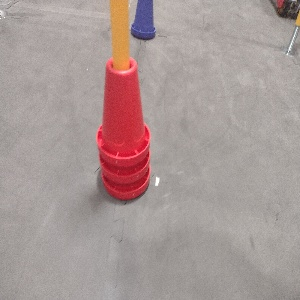Blue_1: (129, 0, 157, 40)
Red_3: (94, 56, 150, 201)
